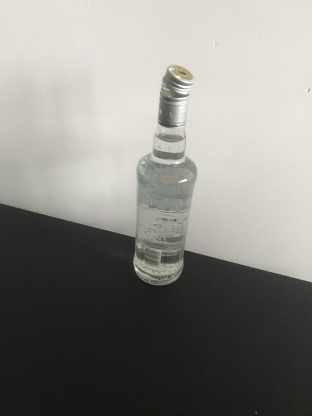nakretka: (156, 63, 195, 128)
